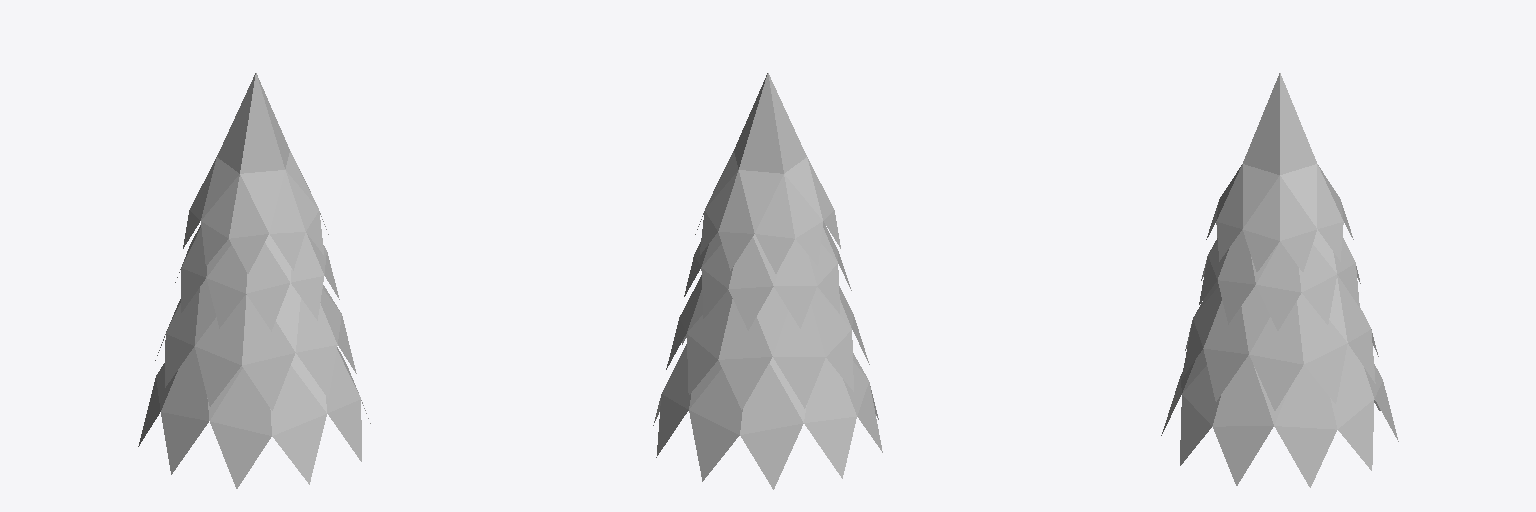
File: pino.obj
The picture shows the model from 3 angles: view 1: azimuth 30°, elevation 25°; view 2: azimuth 150°, elevation 25°; view 3: azimuth 270°, elevation 25°; orthographic projection.
Visible parts, largest first — view 1: Icosphere; view 2: Icosphere; view 3: Icosphere.
Boxes of the visible parts, x1,y1,x2,y2 form: Icosphere: [138, 73, 370, 488]; Icosphere: [653, 73, 882, 489]; Icosphere: [1161, 73, 1398, 487].
Bounding box in the file's own units: 1.93 × 3.41 × 2.